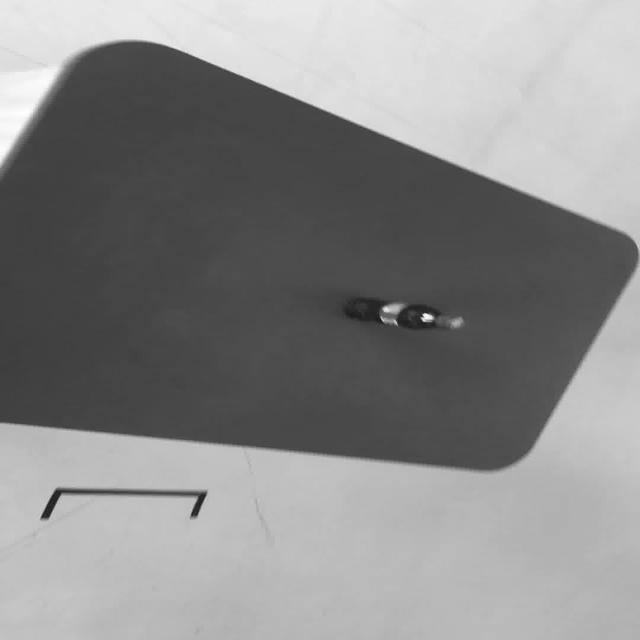guarana: (342, 296, 464, 331)
